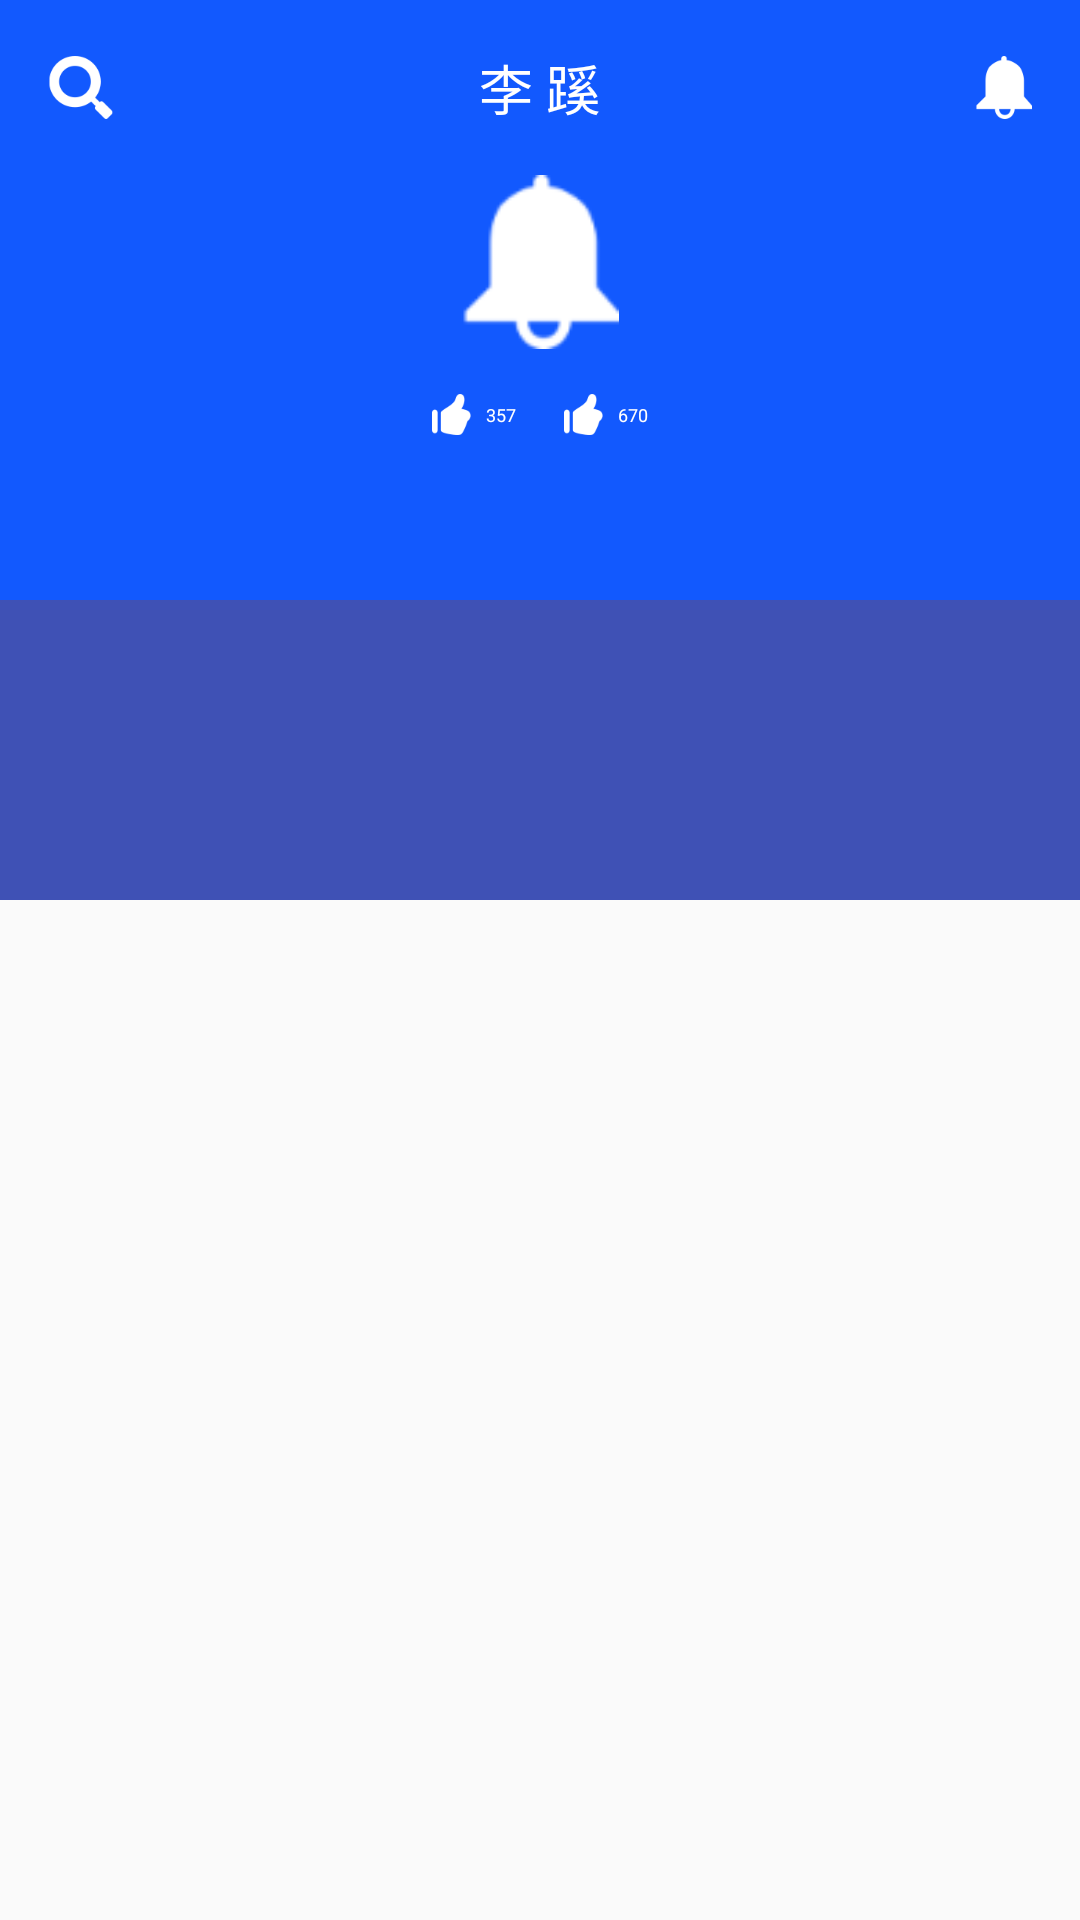

Locate icon controls on the screen. Image size 1080px x 1920px, boxes as (x1, y1, x2, y2).
me title notify: (976, 56, 1032, 119), (463, 175, 619, 349)
me title search: (49, 56, 113, 119)
